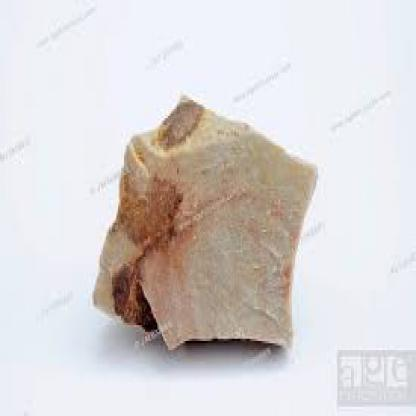Metamorphic_Quartize: (80, 77, 316, 355)
